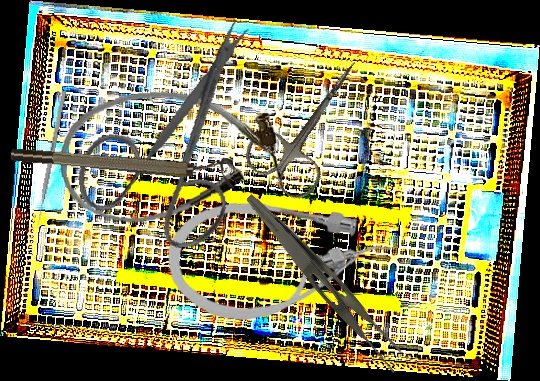Cannula: (52, 81, 287, 229), (166, 200, 392, 325)
Dressing Forceps: (228, 192, 416, 376)
Fixation Ring: (10, 135, 237, 188)
Iris Scissors: (55, 16, 285, 264), (237, 39, 389, 206)
Pusher: (34, 90, 67, 231)
